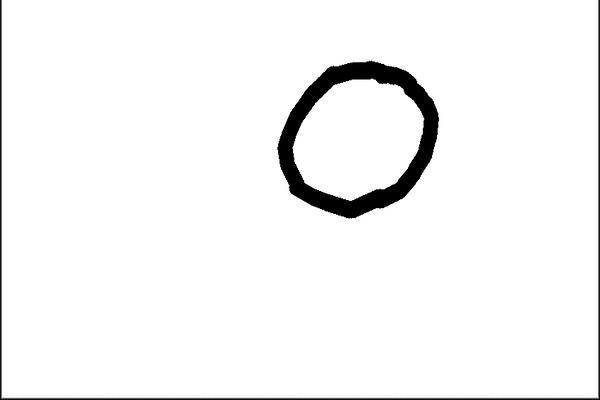O: (264, 51, 447, 221)
